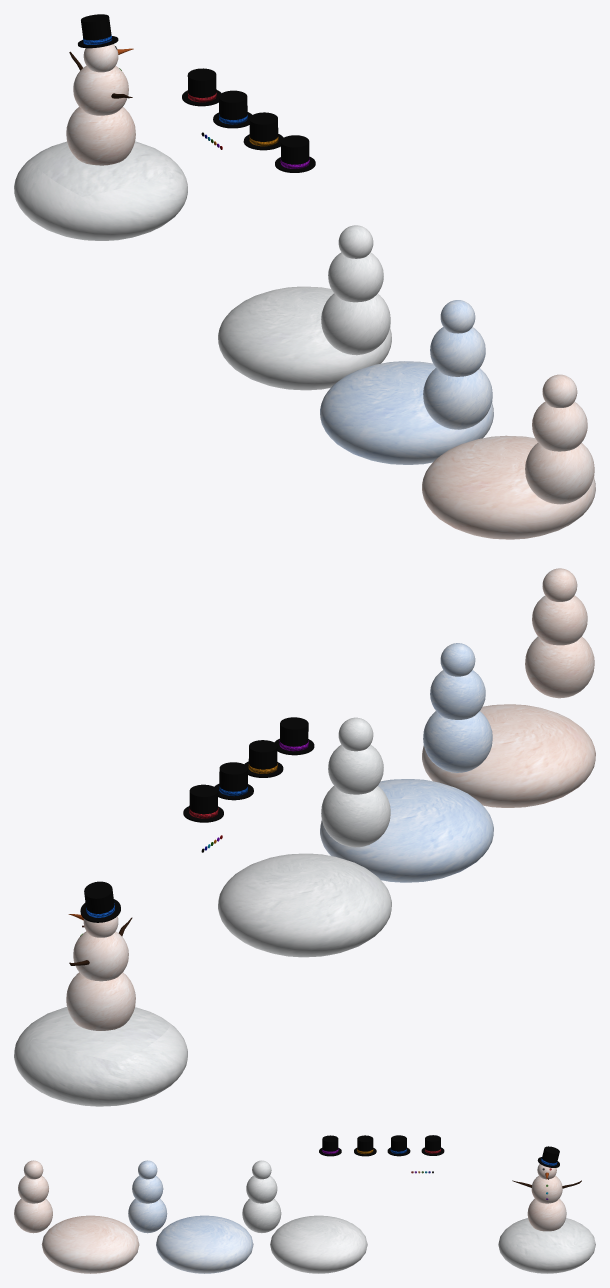
The model's file is SnowmanMonument.fbx.
The picture shows the model from 3 angles, top to bottom: view 1: azimuth 30°, elevation 25°; view 2: azimuth 150°, elevation 25°; view 3: azimuth 270°, elevation 25°; orthographic projection. The views are drawn at different scales.
Parts seen in each view (by area): view 1: ExampleSnowBase, SnowBaseOrangePart, SnowBaseBluePart, SnowBaseWhite, SnowmanBaseOrangePart, SnowmanBaseWhite, SnowmanBaseBluePart, ExampleSnowballBot, ExampleSnowballMid, HatRibbonPurple, HatRibbonYellow, HatRibbonRed (+3 smaller); view 2: SnowBaseWhite, ExampleSnowBase, SnowBaseBluePart, SnowBaseOrangePart, SnowmanBaseOrangePart, SnowmanBaseBluePart, SnowmanBaseWhite, ExampleSnowballBot, ExampleSnowballMid, ExampleHat, HatRibbonRed, HatRibbonPurple (+2 smaller); view 3: SnowBaseWhite, SnowBaseBluePart, SnowBaseOrangePart, ExampleSnowBase, SnowmanBaseWhite, SnowmanBaseBluePart, SnowmanBaseOrangePart, ExampleSnowballBot, ExampleSnowballMid, HatRibbonYellow, HatRibbonPurple, HatRibbonBlue (+3 smaller).
Boxes of the visible parts, x1=… form: ExampleSnowBase: x1=14, y1=141, x2=187, y2=240; SnowBaseOrangePart: x1=422, y1=435, x2=595, y2=539; SnowBaseBluePart: x1=320, y1=361, x2=493, y2=464; SnowBaseWhite: x1=218, y1=286, x2=391, y2=390; SnowmanBaseOrangePart: x1=525, y1=374, x2=594, y2=504; SnowmanBaseWhite: x1=321, y1=225, x2=390, y2=355; SnowmanBaseBluePart: x1=423, y1=300, x2=492, y2=429; ExampleSnowballBot: x1=66, y1=107, x2=135, y2=165; ExampleSnowballMid: x1=73, y1=66, x2=128, y2=115; HatRibbonPurple: x1=275, y1=135, x2=315, y2=172; HatRibbonYellow: x1=243, y1=112, x2=283, y2=150; HatRibbonRed: x1=182, y1=68, x2=221, y2=106; SnowBaseWhite: x1=218, y1=853, x2=391, y2=957; ExampleSnowBase: x1=14, y1=1007, x2=187, y2=1106; SnowBaseBluePart: x1=320, y1=779, x2=493, y2=882; SnowBaseOrangePart: x1=422, y1=704, x2=595, y2=807; SnowmanBaseOrangePart: x1=525, y1=568, x2=594, y2=698; SnowmanBaseBluePart: x1=423, y1=643, x2=492, y2=772; SnowmanBaseWhite: x1=321, y1=717, x2=390, y2=847; ExampleSnowballBot: x1=66, y1=972, x2=135, y2=1030; ExampleSnowballMid: x1=73, y1=931, x2=128, y2=981; ExampleHat: x1=80, y1=881, x2=120, y2=922; HatRibbonRed: x1=183, y1=784, x2=223, y2=822; HatRibbonPurple: x1=274, y1=717, x2=314, y2=755; SnowBaseWhite: x1=270, y1=1215, x2=367, y2=1273; SnowBaseBluePart: x1=156, y1=1215, x2=253, y2=1273; SnowBaseOrangePart: x1=41, y1=1215, x2=139, y2=1273; ExampleSnowBase: x1=498, y1=1218, x2=595, y2=1273; SnowmanBaseWhite: x1=242, y1=1160, x2=281, y2=1233; SnowmanBaseBluePart: x1=128, y1=1160, x2=167, y2=1233; SnowmanBaseOrangePart: x1=14, y1=1160, x2=52, y2=1233; ExampleSnowballBot: x1=527, y1=1198, x2=566, y2=1231; ExampleSnowballMid: x1=531, y1=1175, x2=562, y2=1203; HatRibbonYellow: x1=354, y1=1135, x2=376, y2=1156; HatRibbonPurple: x1=319, y1=1135, x2=341, y2=1156; HatRibbonBlue: x1=387, y1=1135, x2=410, y2=1156.
Size of the model in its own units: 2550 by 612 by 428.
Materials: 18 (14 with a texture image).
